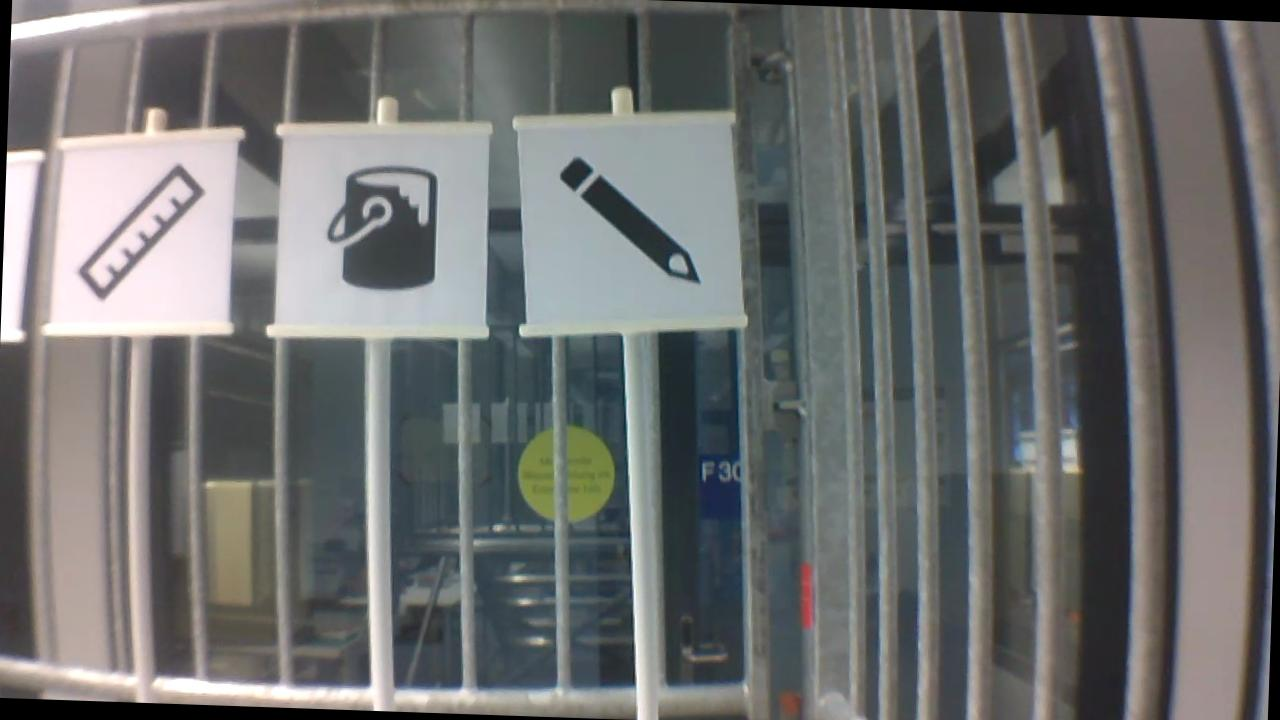bucket: (317, 159, 445, 297)
pencil: (545, 152, 707, 289)
ruler: (71, 154, 205, 309)
